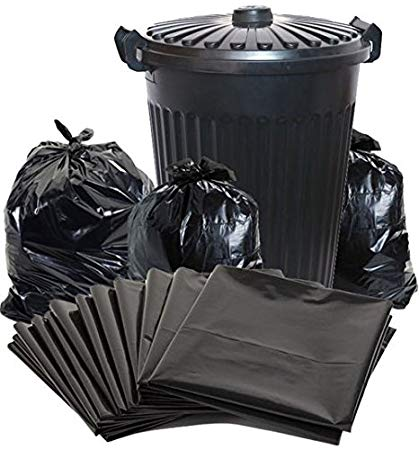plastic_bagwdw: (104, 192, 410, 450), (116, 142, 311, 356), (3, 129, 173, 347), (294, 107, 408, 341), (30, 271, 146, 450), (75, 258, 186, 443), (1, 283, 108, 447), (161, 221, 236, 450), (99, 236, 140, 448), (37, 284, 86, 450), (137, 218, 172, 429), (15, 300, 54, 450), (28, 286, 56, 450)
